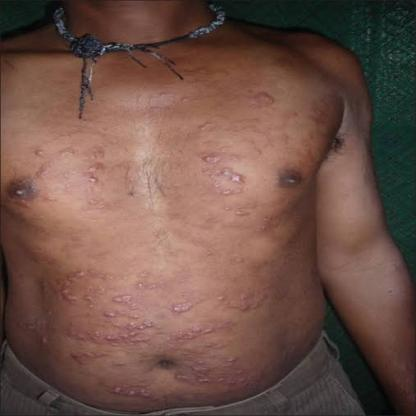Hansen-s Disease-Leprosy: (185, 333, 240, 387), (108, 288, 152, 338), (202, 150, 244, 197), (57, 267, 91, 310), (172, 294, 201, 327)
